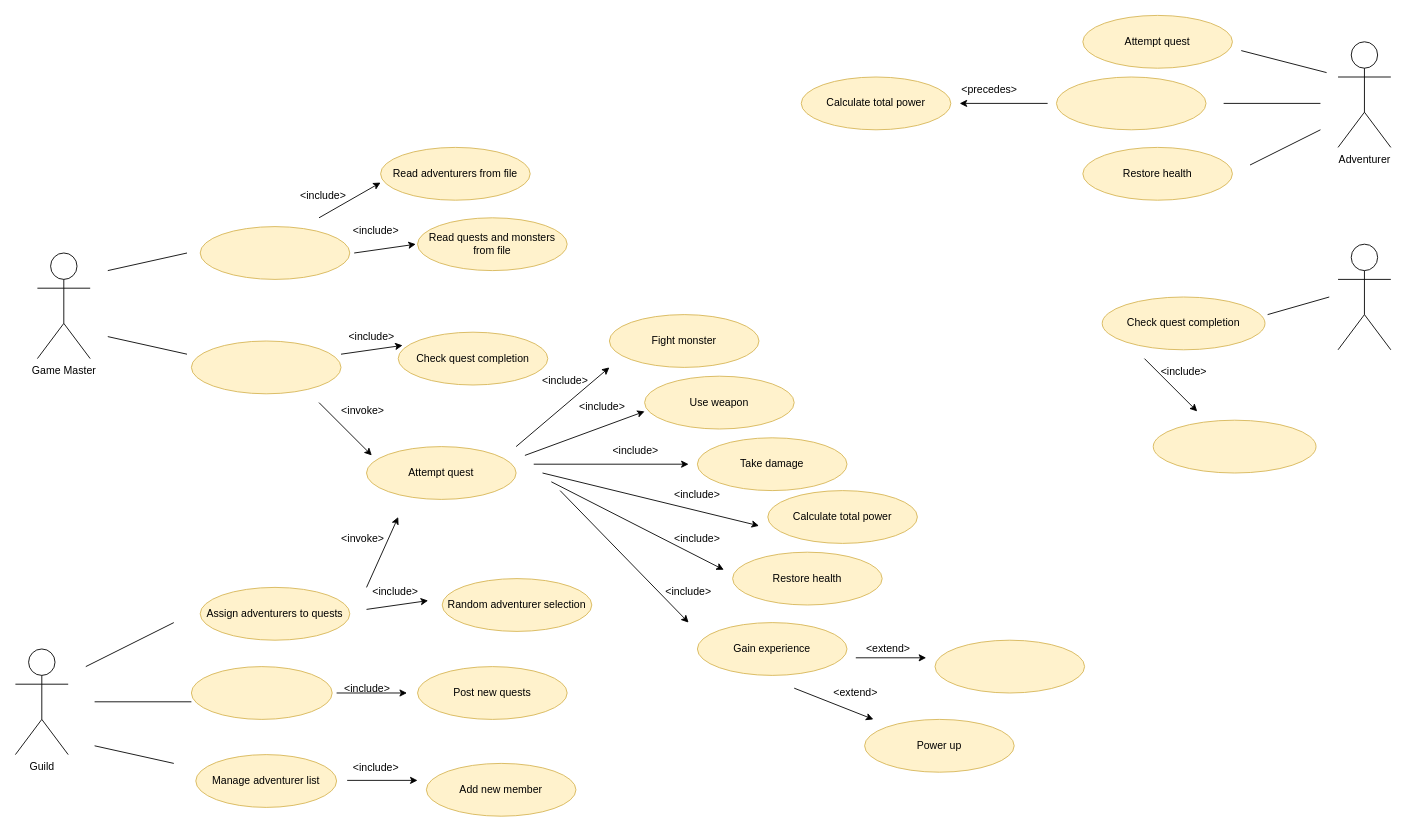
Some shapes in this 1412 by 832 pixel diagram are drawn without their labels. The shapes that lost their labels are listed below. From the top down, each one's box as (x1, y1, x2, y2) in pixels, then its label:
(1056, 76, 1206, 130): Equip weapon
(199, 226, 350, 279): Read data from files
(1337, 243, 1391, 350): Quest System
(191, 340, 341, 394): Assign quests
(1152, 419, 1316, 473): Quest marked complete
(934, 639, 1085, 693): Increase rank
(191, 666, 332, 719): Manage quest board
